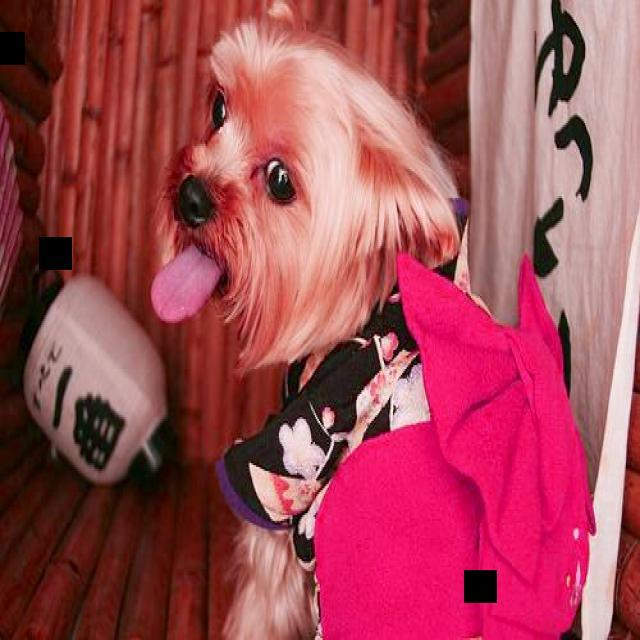adult_dog: (149, 23, 597, 640)
